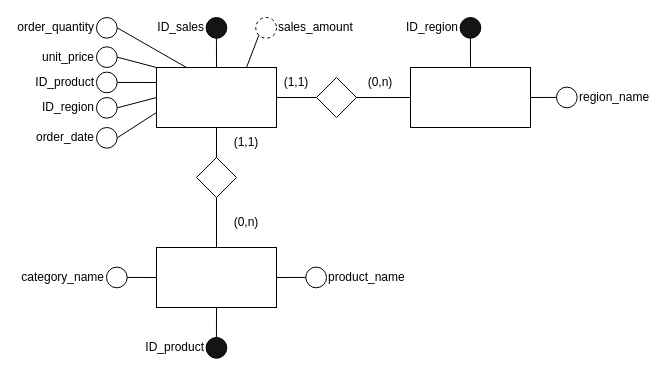
This 666x376 diagram has some shape labels left out. The shapes that lost their labels are listed below. From the top down, each one's centre as x and y in pixels, then its label:
the point at 216,97: SALES
the point at 470,97: REGION
the point at 216,277: PRODUCT
